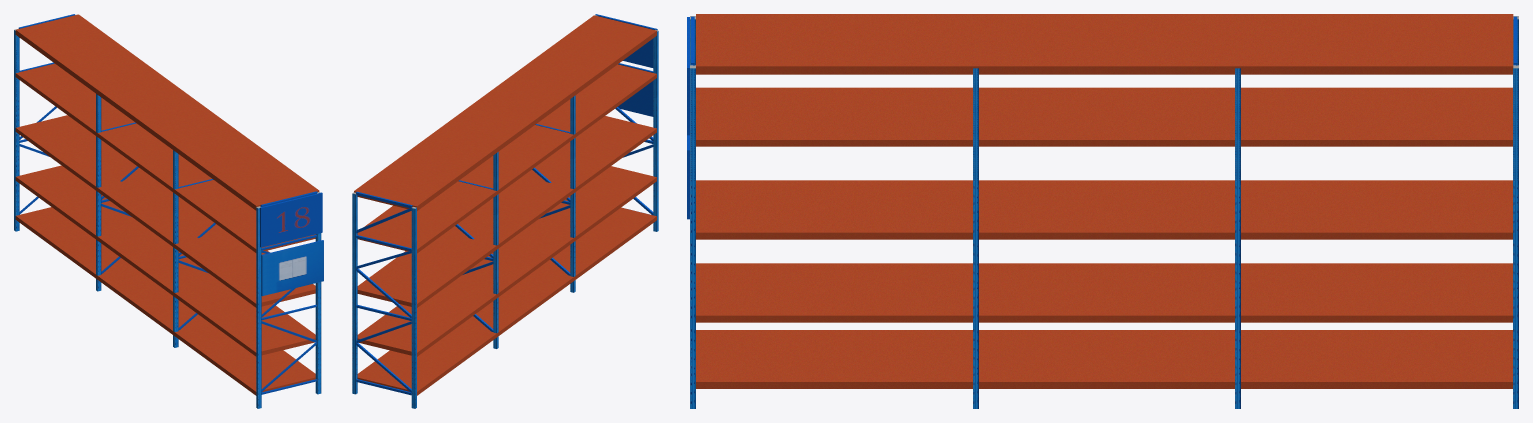
Rendered from Shelf18.FBX.
The picture shows the model from 3 angles, left to right: view 1: azimuth 30°, elevation 25°; view 2: azimuth 150°, elevation 25°; view 3: azimuth 270°, elevation 25°; orthographic projection. The views are drawn at different scales.
Parts seen in each view (by area): view 1: 图形189, Box3703, Box3702; view 2: 图形189, Box3703, Box3702; view 3: 图形189.
Part boxes in pixels (<box>): 图形189: <box>14,14,321,408</box>; Box3703: <box>261,240,323,296</box>; Box3702: <box>260,192,322,247</box>; 图形189: <box>352,15,658,408</box>; Box3703: <box>618,81,653,116</box>; Box3702: <box>595,14,657,67</box>; 图形189: <box>690,14,1518,408</box>.
Size of the model in its own units: 0.835 by 5.45 by 2.48.
